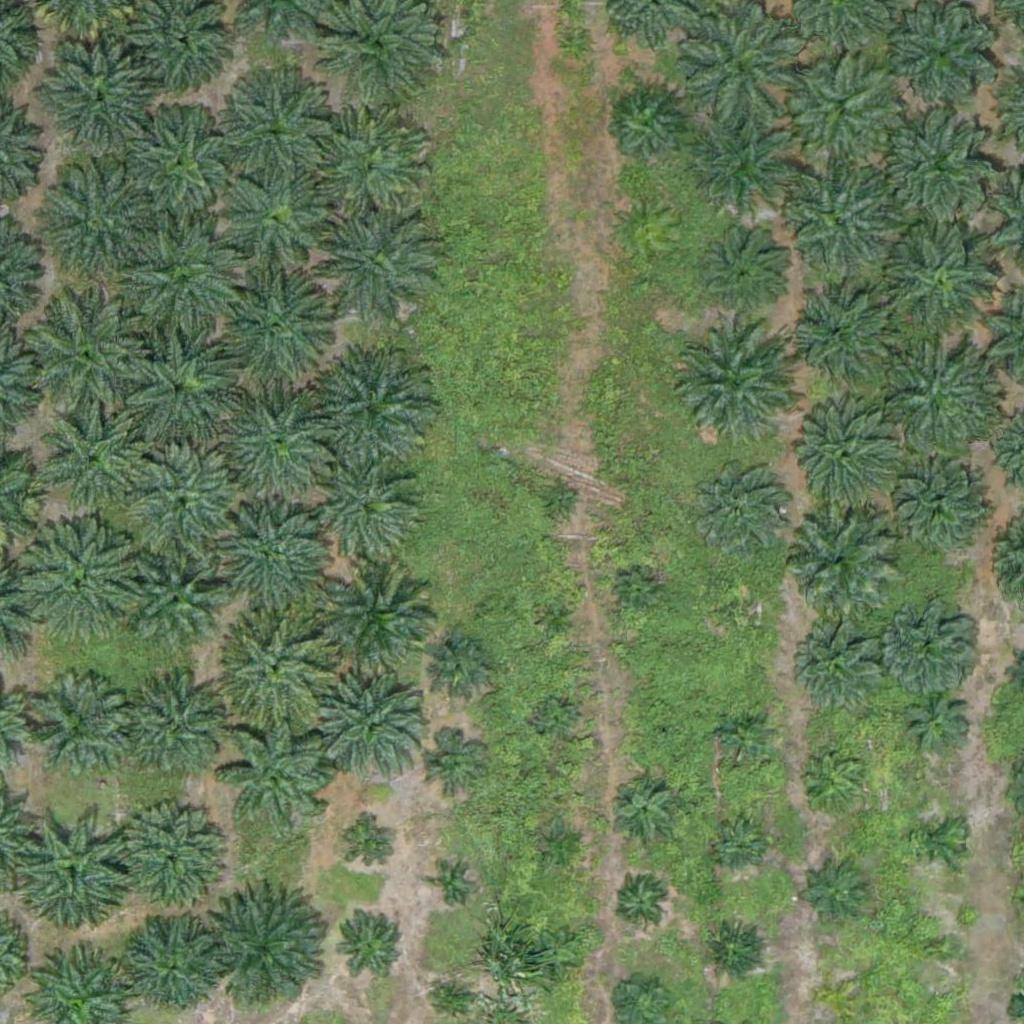Kelapa_Sawit: (214, 66, 339, 192), (121, 102, 246, 228), (308, 104, 433, 230), (22, 294, 147, 420), (29, 162, 154, 288), (34, 34, 159, 160), (118, 225, 243, 351), (112, 328, 237, 454), (120, 450, 245, 576), (207, 501, 332, 627), (215, 387, 340, 513), (210, 266, 335, 392), (312, 204, 437, 330), (308, 349, 433, 475), (319, 569, 444, 695), (668, 320, 793, 446), (13, 808, 138, 934), (20, 521, 145, 646), (880, 335, 1005, 460), (209, 889, 334, 1014), (779, 503, 892, 616), (883, 108, 996, 221), (883, 221, 996, 334), (221, 716, 334, 829), (110, 802, 223, 915), (788, 59, 900, 172), (689, 110, 801, 223), (784, 166, 896, 279), (786, 399, 898, 512), (318, 676, 430, 789), (222, 611, 334, 724), (45, 412, 145, 513), (319, 464, 419, 565), (689, 459, 789, 560), (792, 287, 892, 388), (890, 459, 990, 560), (885, 594, 985, 695), (120, 913, 220, 1014), (126, 678, 226, 779), (25, 677, 125, 778), (226, 174, 326, 274), (130, 560, 217, 649), (701, 224, 788, 312), (798, 627, 885, 715), (610, 89, 685, 165), (333, 905, 408, 980), (420, 732, 483, 795), (430, 634, 493, 697), (804, 862, 867, 925), (703, 917, 766, 980), (713, 707, 776, 770), (610, 776, 672, 839), (906, 689, 968, 752), (804, 752, 866, 815), (347, 822, 397, 873), (912, 812, 962, 863), (535, 931, 585, 982), (617, 878, 667, 928), (711, 819, 761, 869), (535, 698, 573, 736), (539, 600, 577, 638), (540, 481, 578, 519), (542, 824, 580, 862), (725, 594, 763, 631), (621, 574, 658, 612), (433, 869, 470, 906), (437, 979, 474, 1016), (930, 933, 955, 958), (825, 987, 850, 1012), (652, 724, 677, 749)
